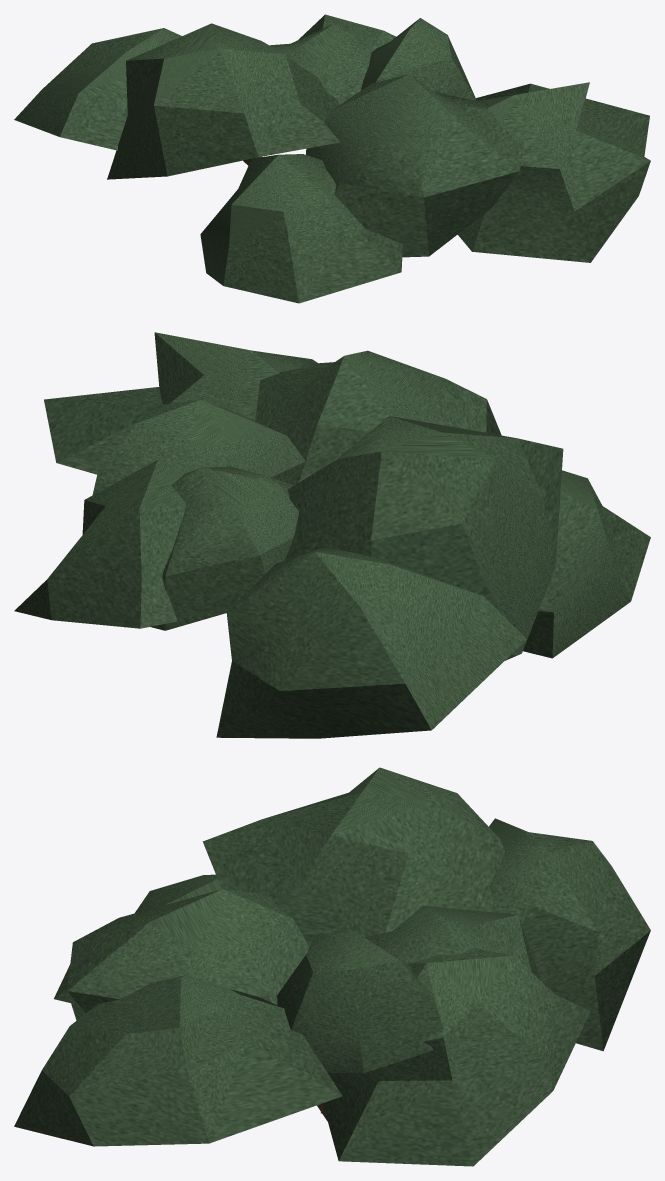
The model's file is bush_7.glb.
3 renders of one model, top to bottom at view 1: azimuth 30°, elevation 25°; view 2: azimuth 150°, elevation 25°; view 3: azimuth 270°, elevation 25°, orthographic. The views are drawn at different scales.
Visible parts, largest first — view 1: bush_7; view 2: bush_7; view 3: bush_7.
Part boxes in pixels (x1,y1,x2,y2): bush_7: (14, 14, 650, 303); bush_7: (14, 332, 650, 738); bush_7: (14, 767, 650, 1166).
Bounding box in the file's own units: 2.93 × 1.27 × 2.77.
Materials: 2 (2 with a texture image).
